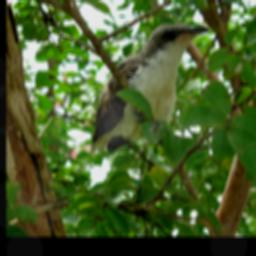Cuckoo: (89, 22, 208, 159)
